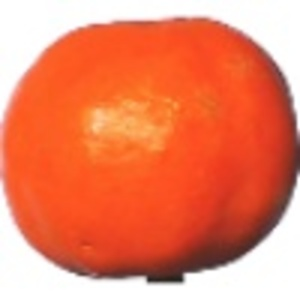tangerina: (1, 15, 300, 284)
